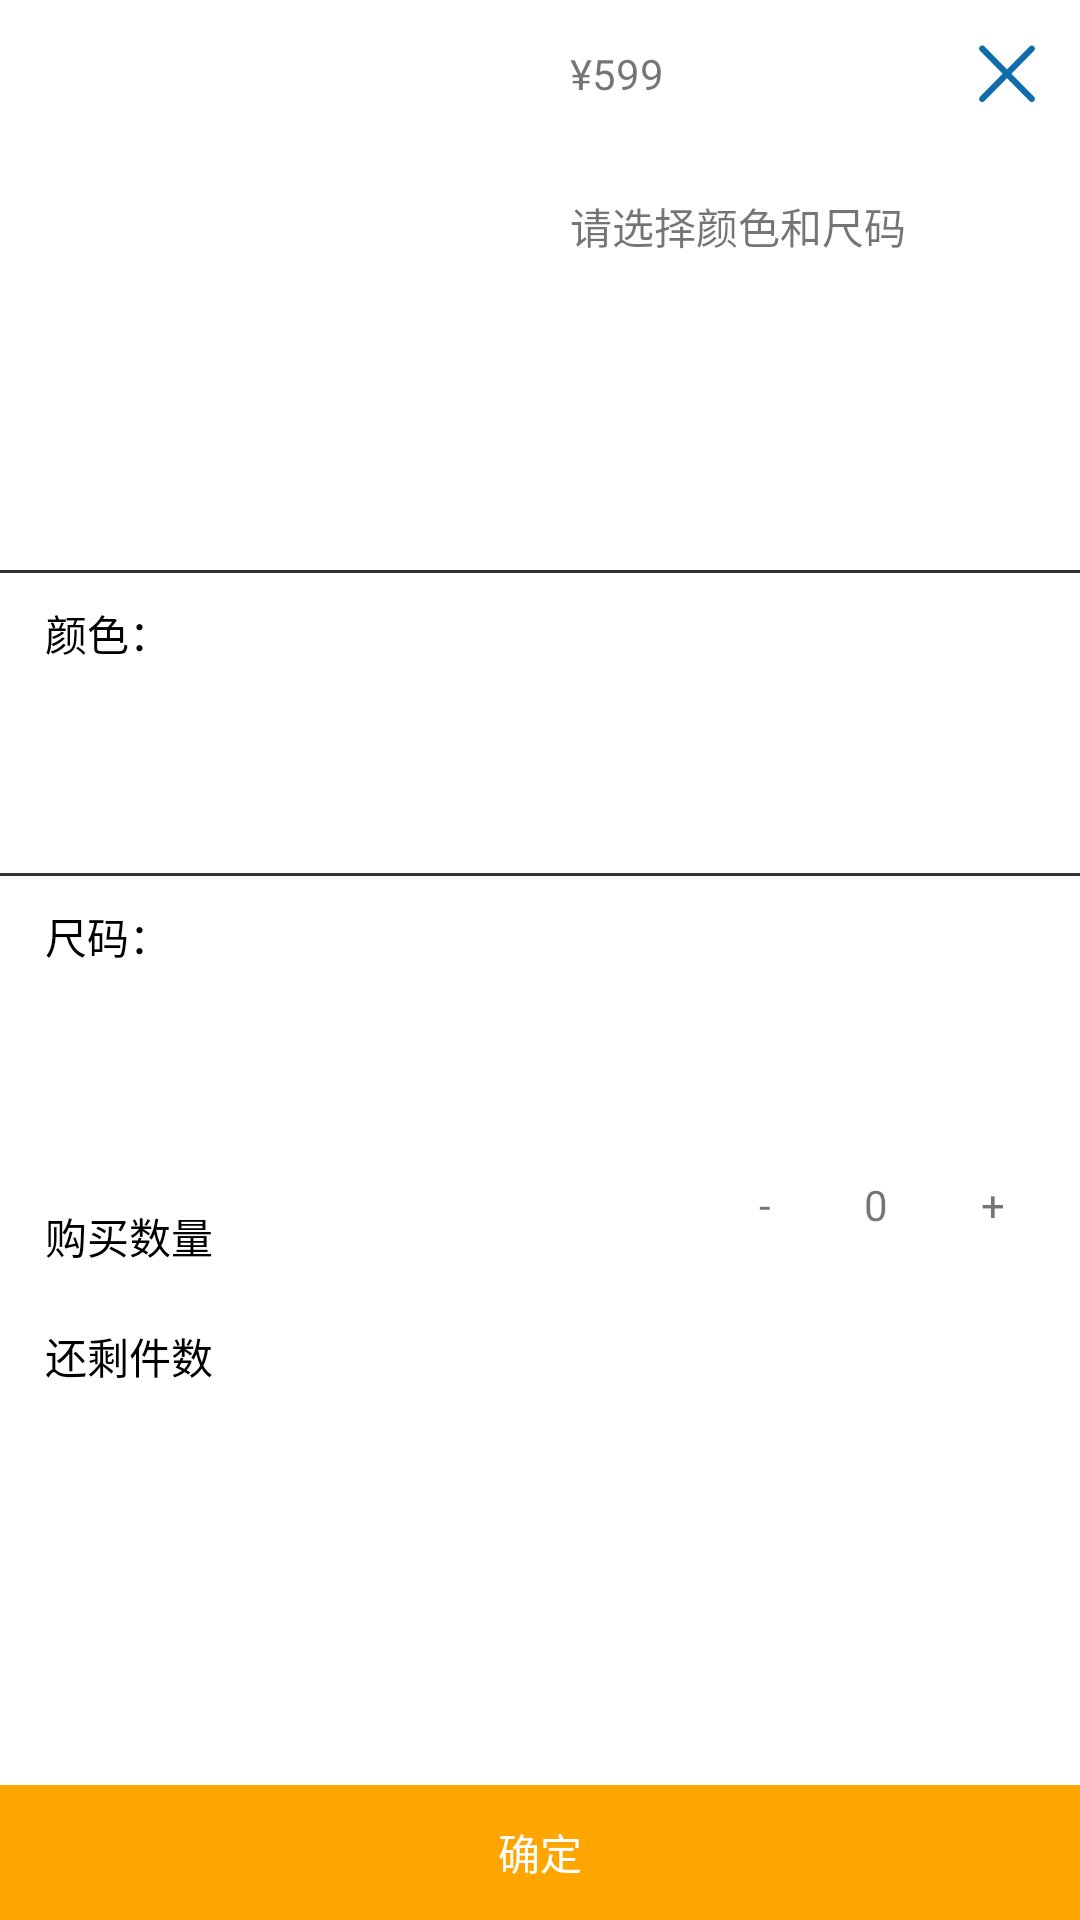

Locate icon controls on the screen. Image size 1080w x 1920h, boxes as BBox(x1, y1, x2, y2).
search close: BBox(979, 45, 1035, 102)
